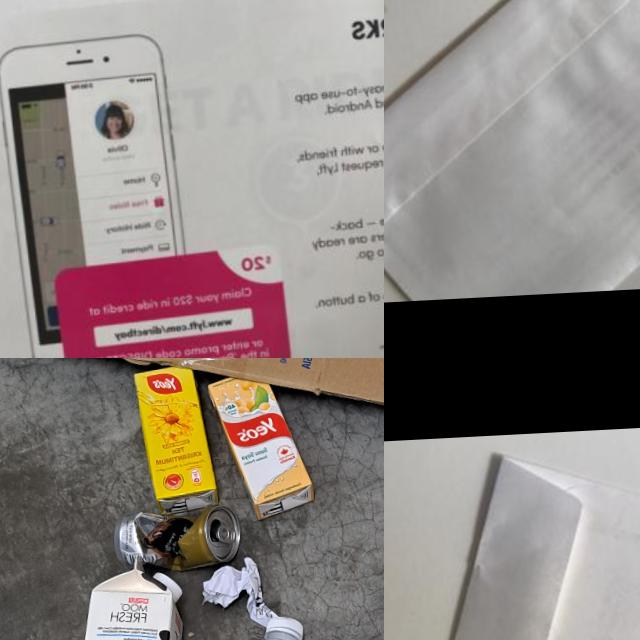aba de lata: (218, 525, 238, 544)
caixinha: (207, 371, 316, 522), (135, 363, 219, 519), (48, 553, 193, 640)
lata: (112, 504, 244, 574)
papel: (0, 0, 384, 358), (384, 0, 640, 306), (408, 442, 640, 640), (198, 554, 278, 632)
papelão: (0, 358, 384, 448)
tampa plástica: (153, 571, 184, 604), (264, 616, 304, 640)
